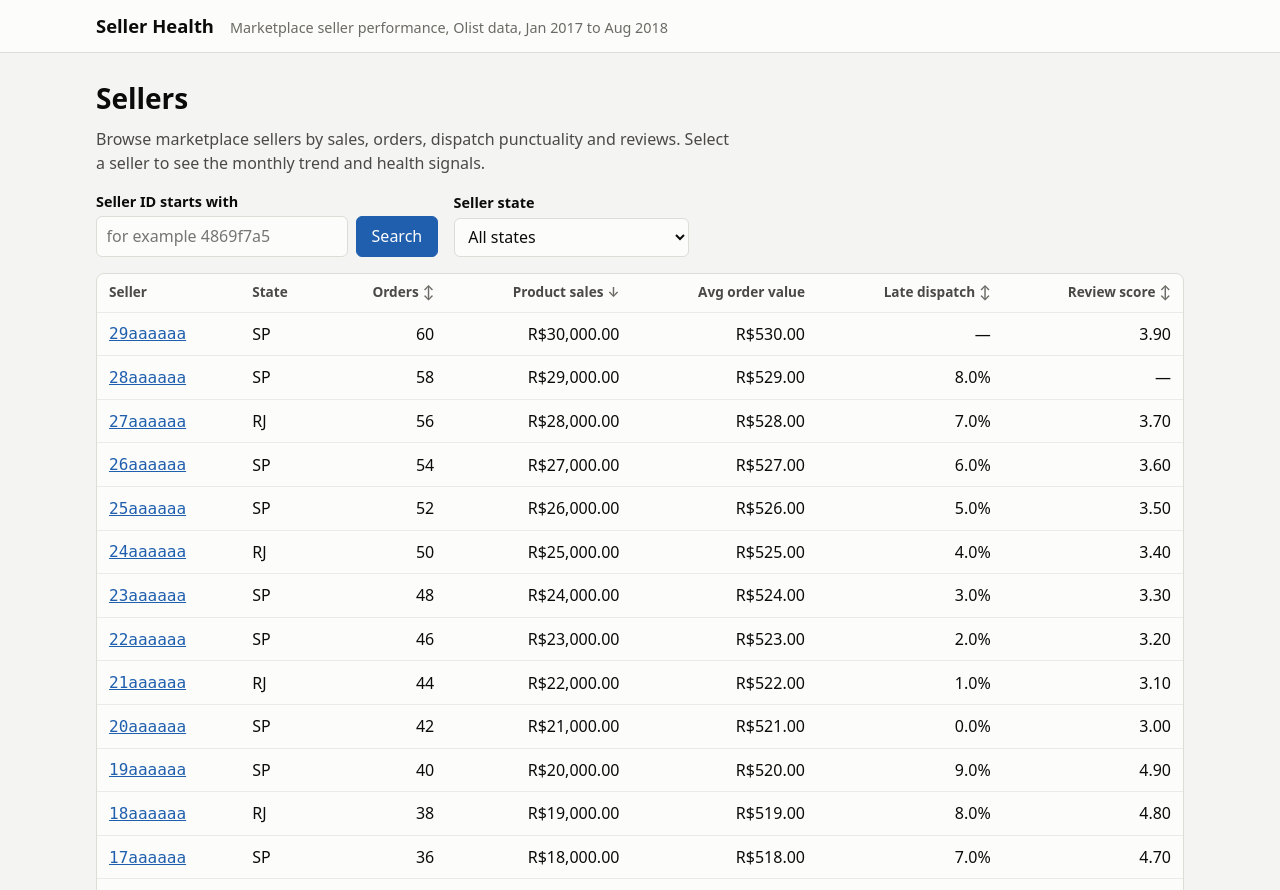
Test: Seller list › explains an invalid search instead of sending it
The image size is (1280, 890).
Type "xyz" into the search field labelled "Seller ID starts with" at (222,236), box [96,216,348,257]
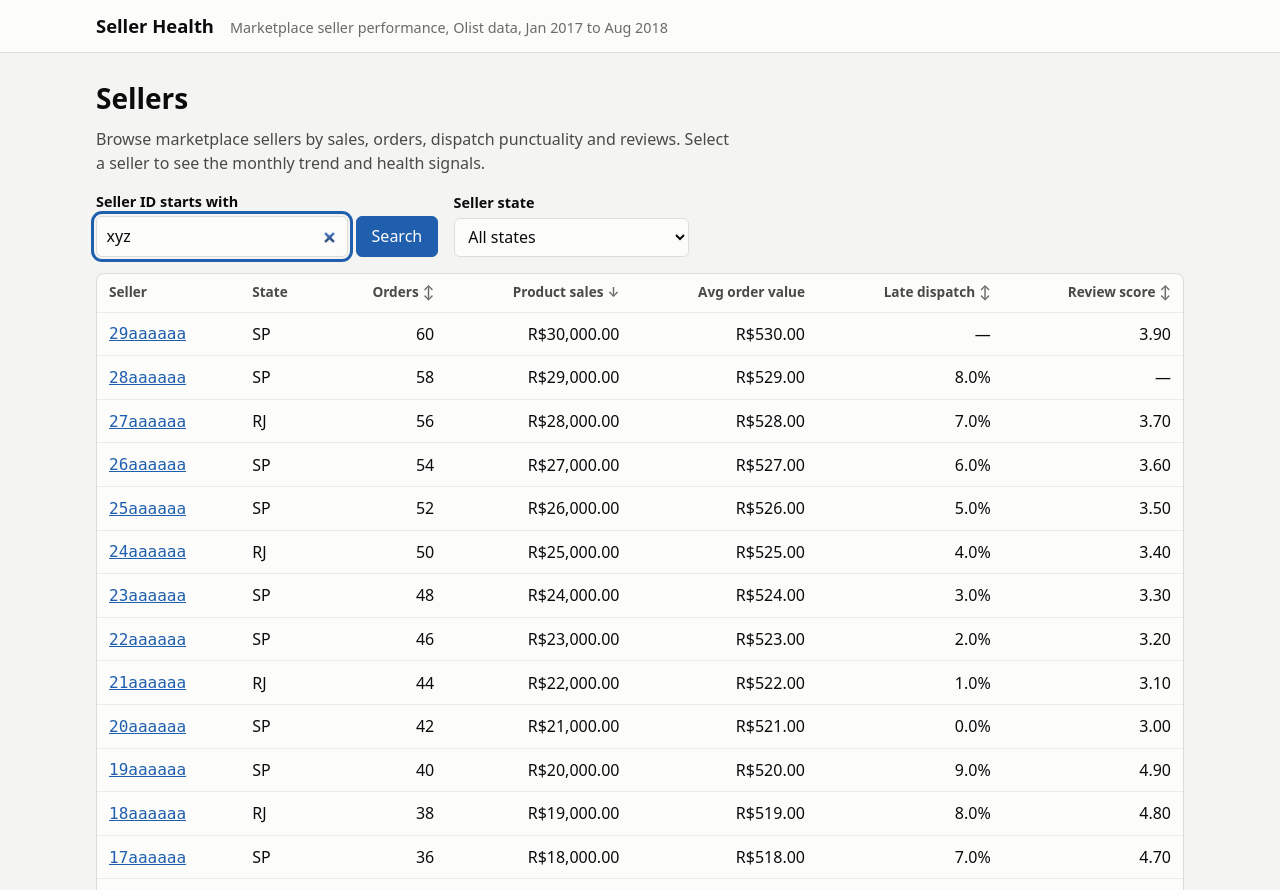
Click the button "Search" at (397,236), box [356,216,438,257]
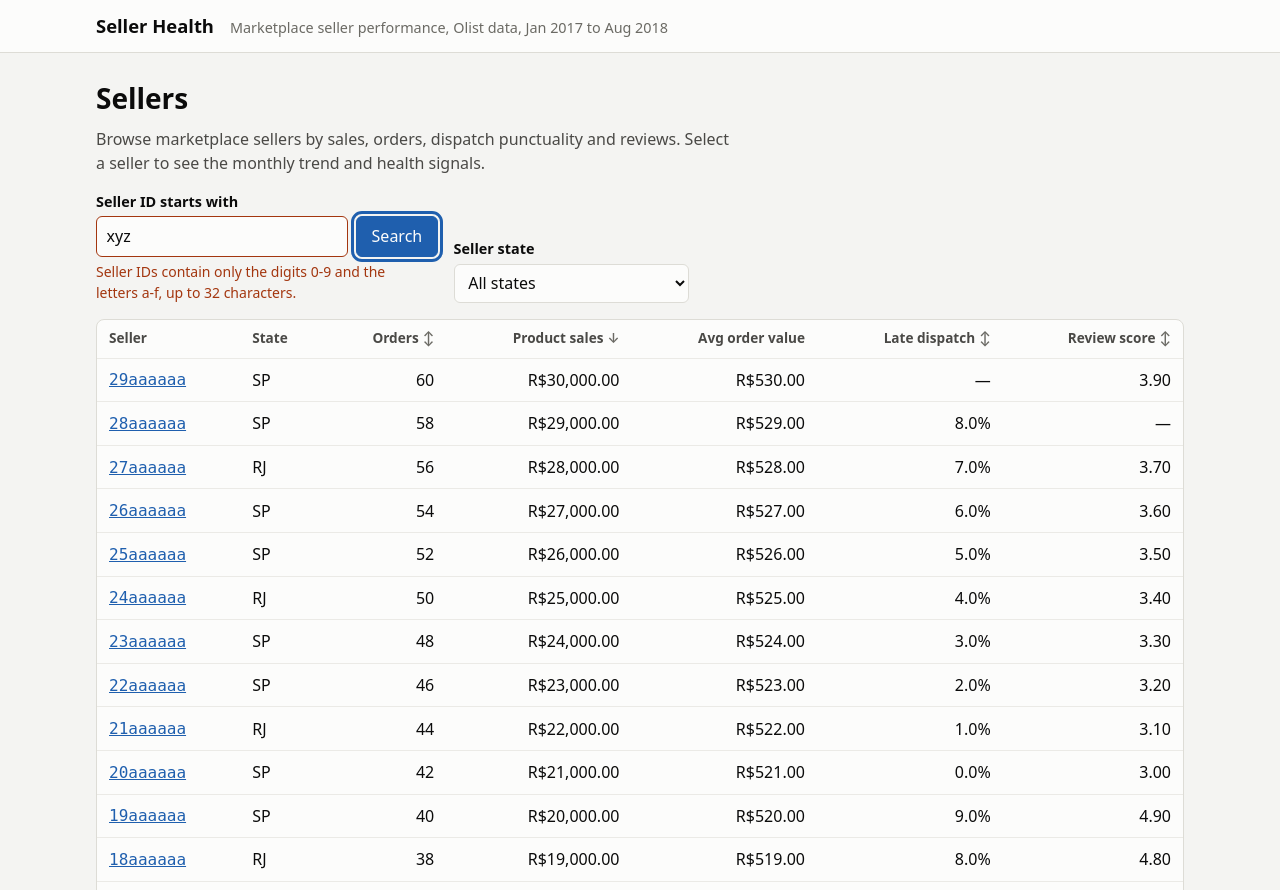
expect the search field labelled "Seller ID starts with" is marked as invalid: met, box [96,216,348,257]
